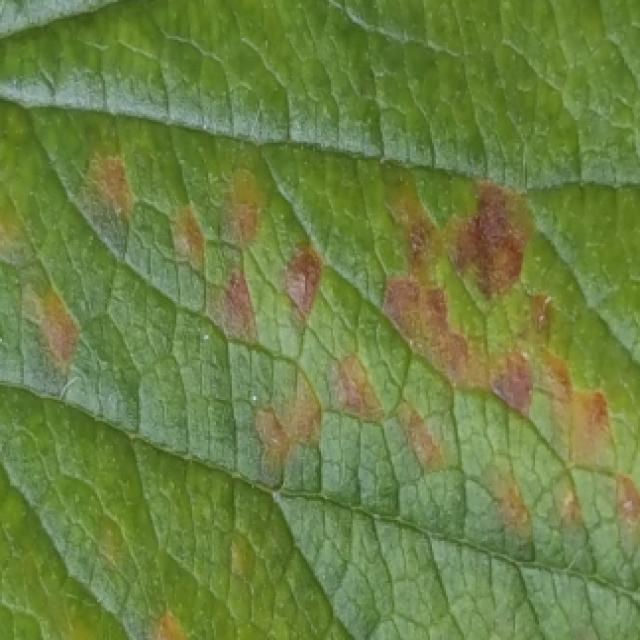Angular Leafspot: (0, 131, 640, 640)
